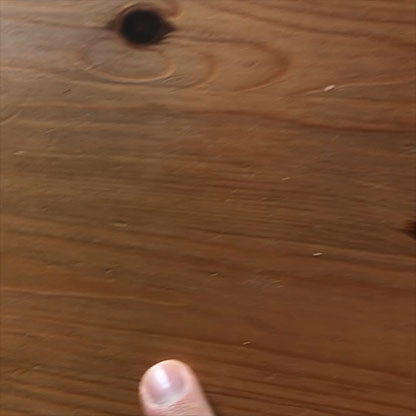fingertip: (133, 350, 212, 413)
